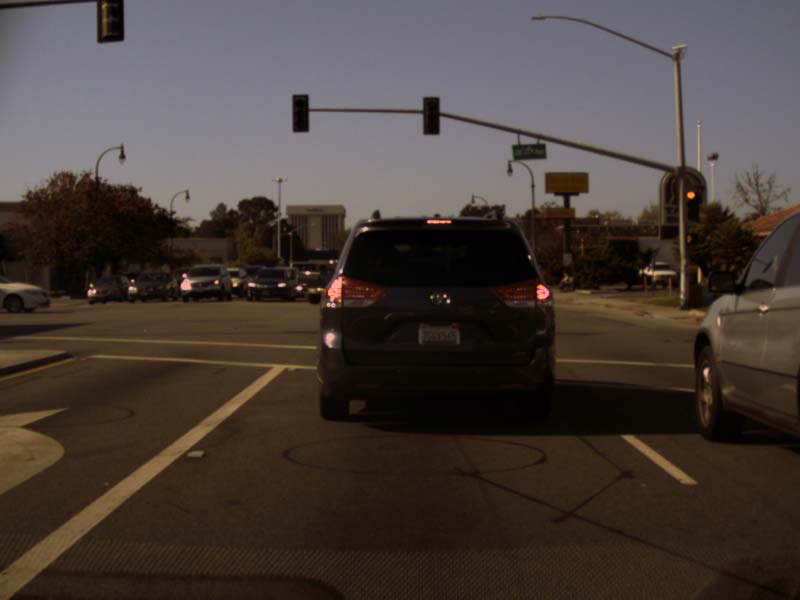Red: (685, 185, 699, 221)
